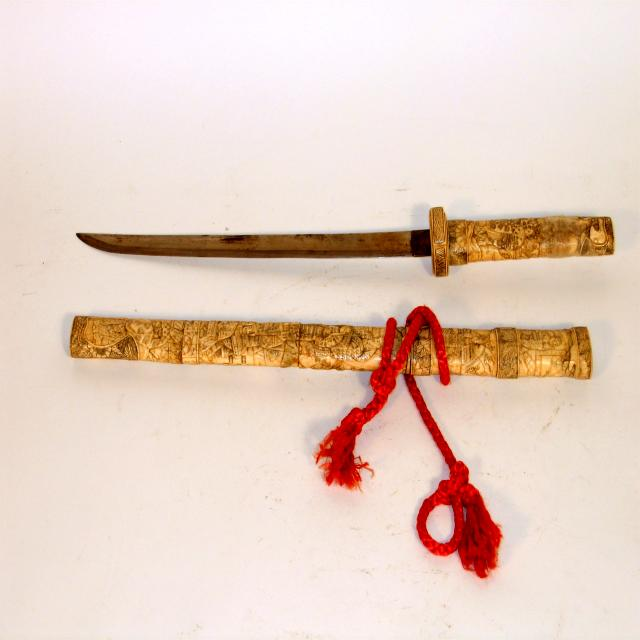short sword: (43, 193, 622, 593)
